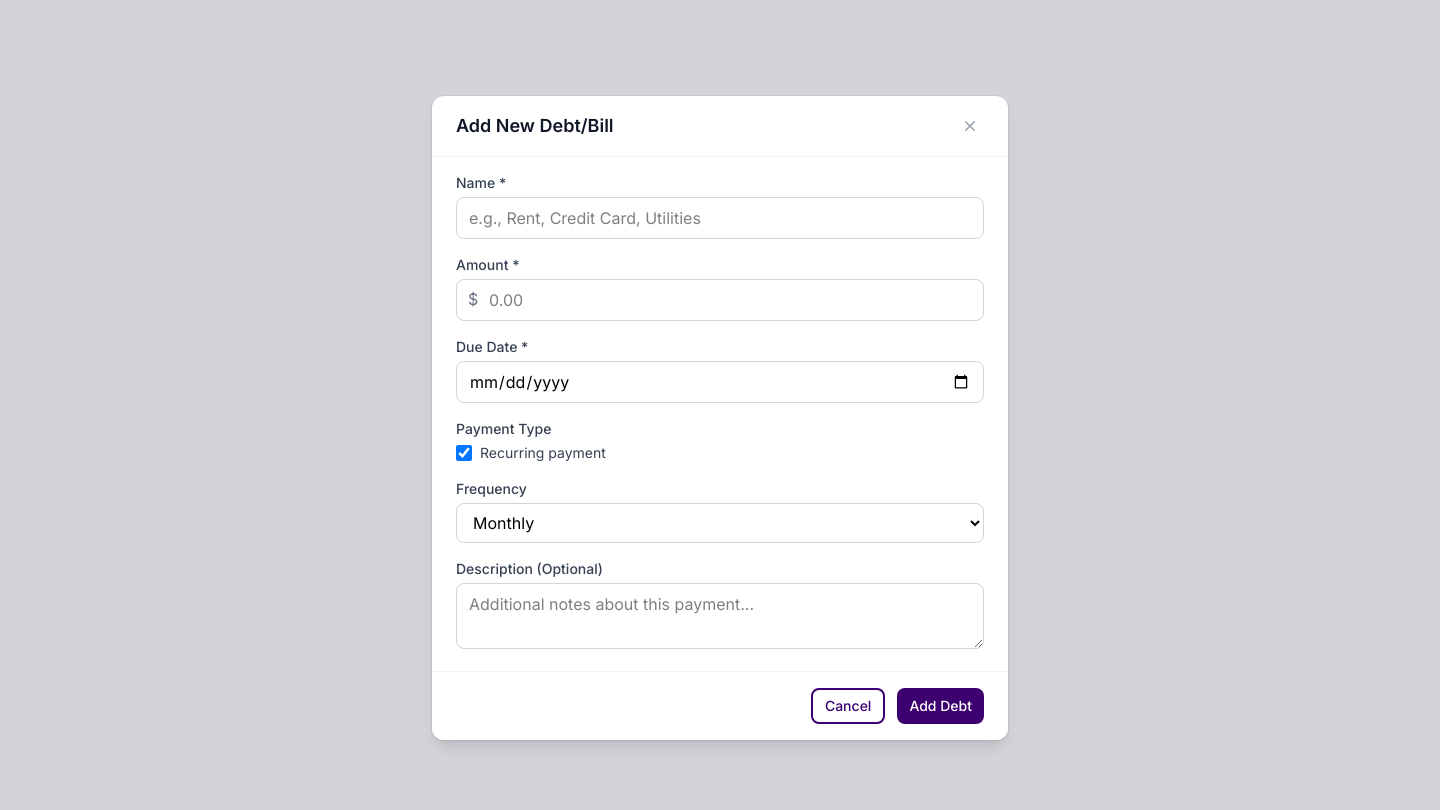
Test: AddDebtModal › handles form submission errors
# Fill out and submit the form
In the field labelled "Name *": (720, 218) [456,197,984,239], type "Test Debt"
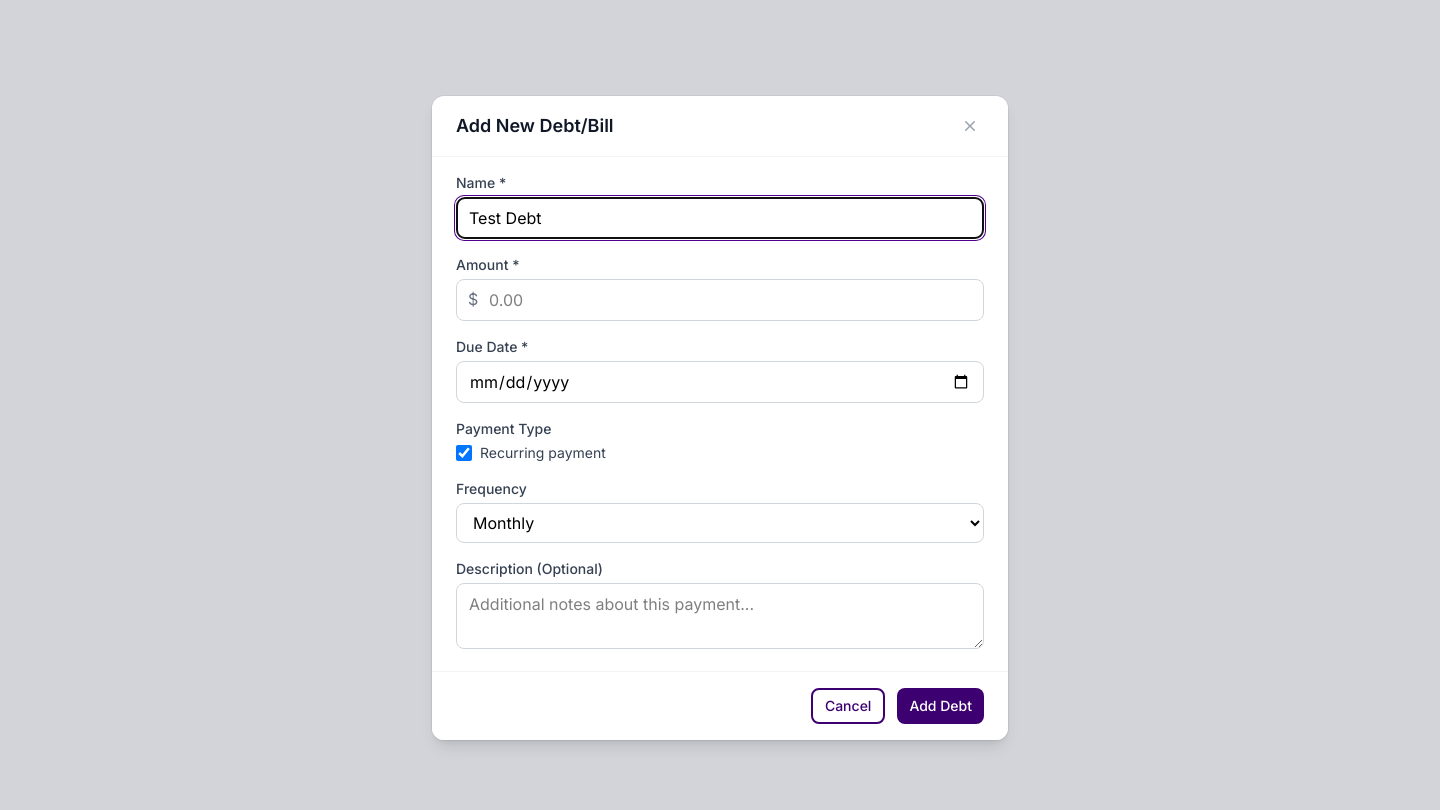
In the field labelled "Amount *": (720, 300) [456,279,984,321], type "500"
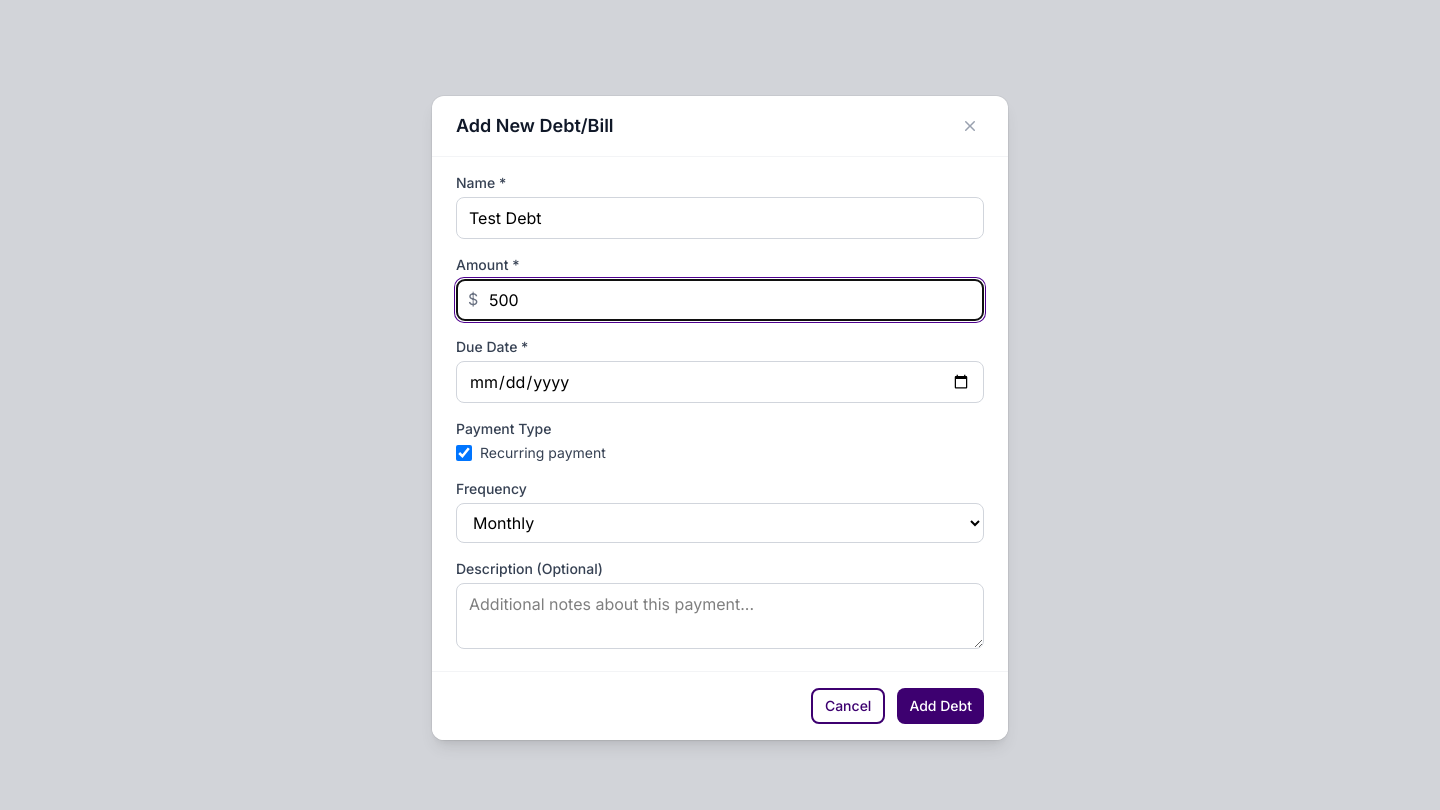
In the date field labelled "Due Date *": (720, 382) [456,361,984,403], type "2024-02-15"
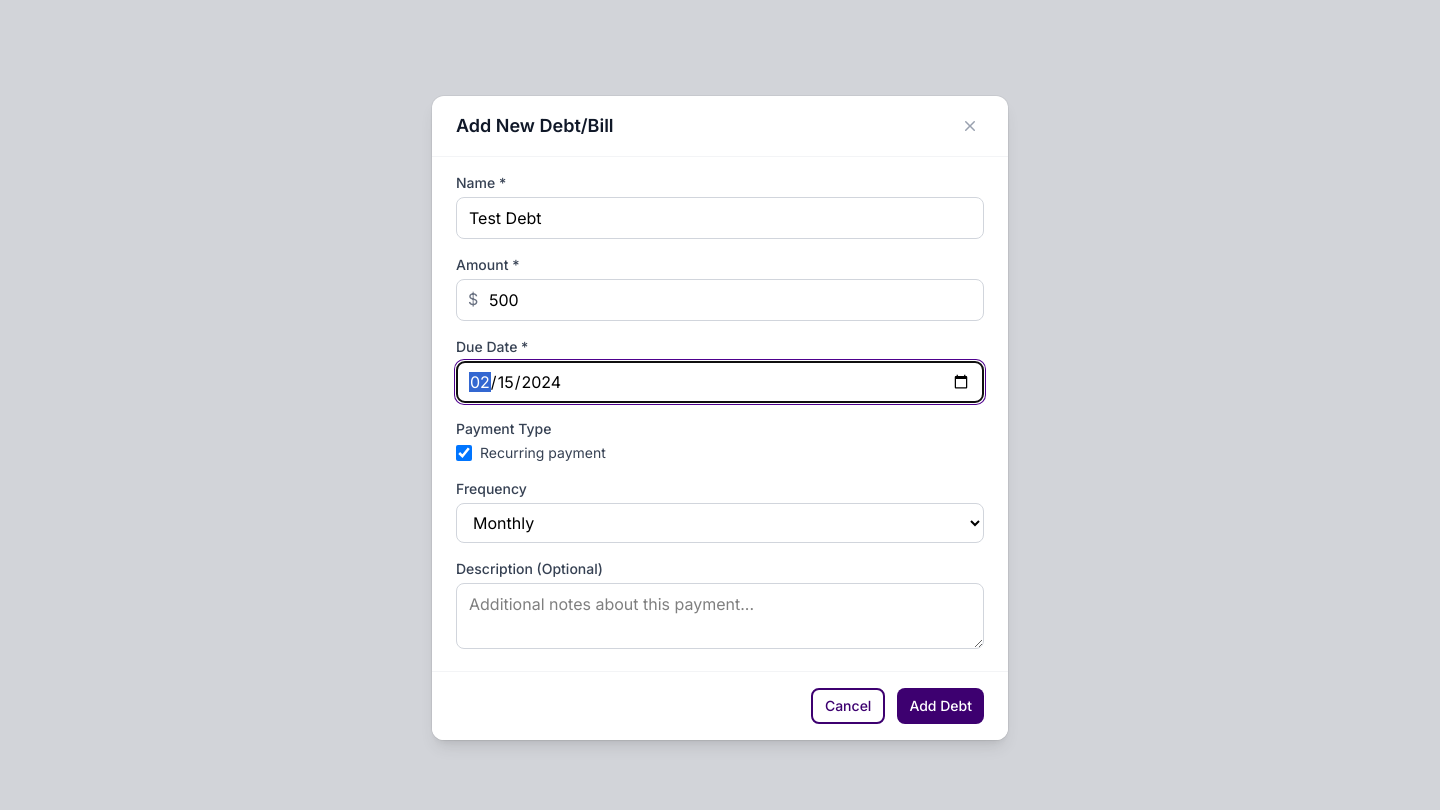
Click the button "Add Debt": (941, 706) [897,688,984,724]
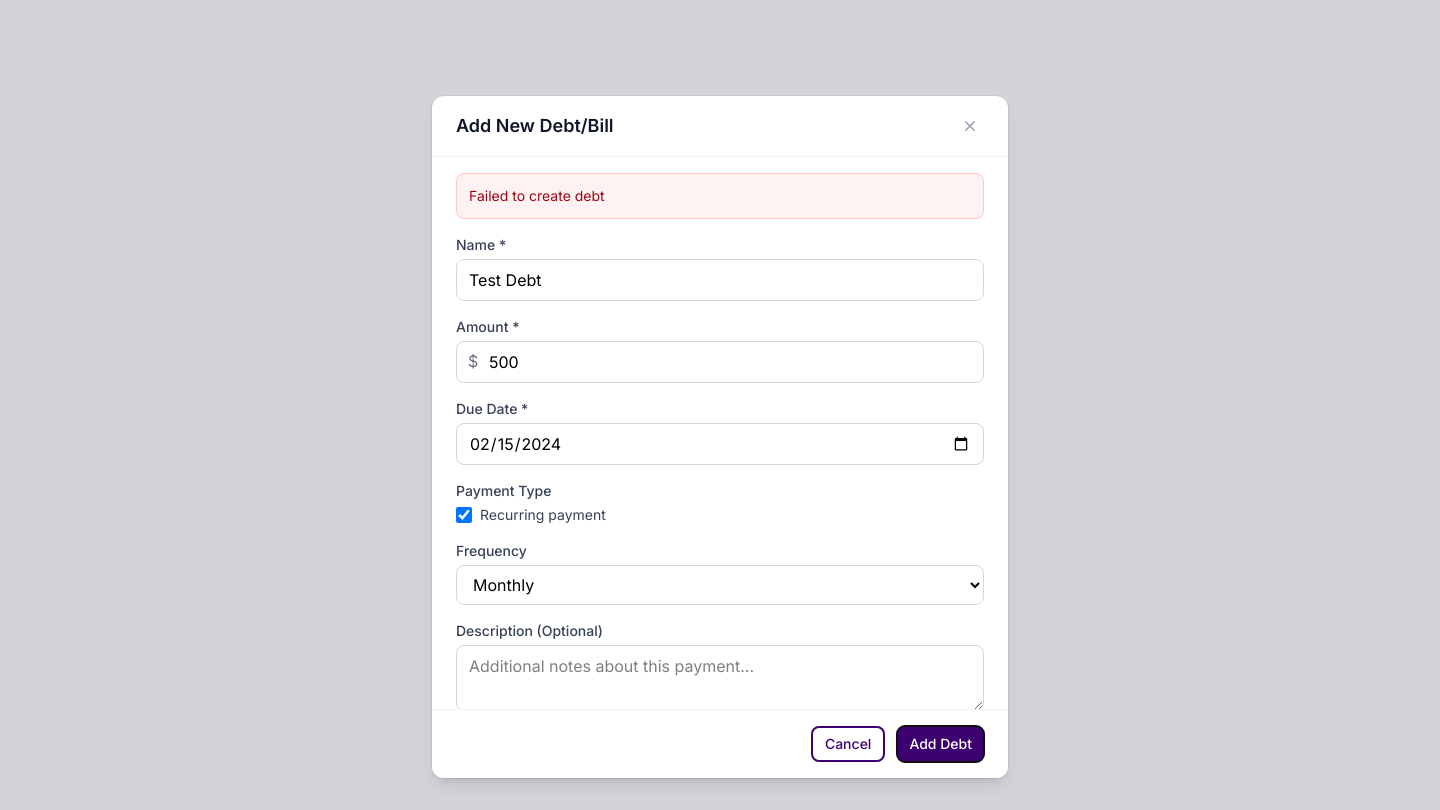
Expected: the text "Failed to create debt" is shown, [469,187,605,204]
